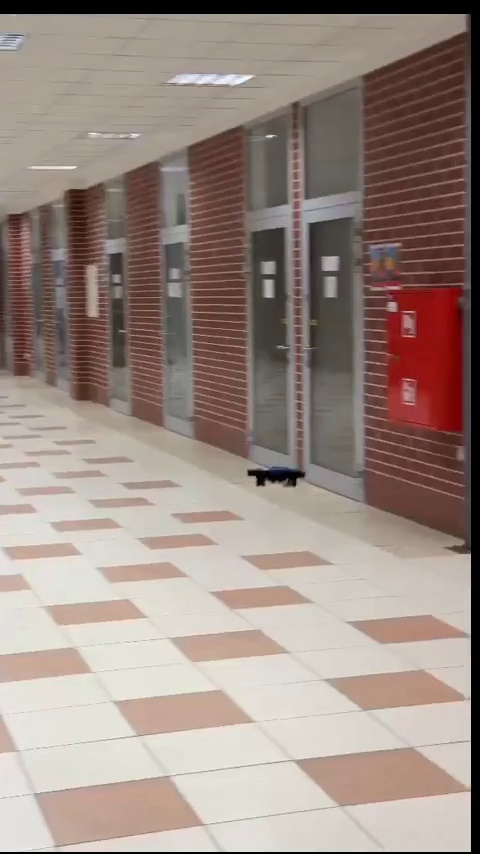drone: (243, 466, 307, 487)
